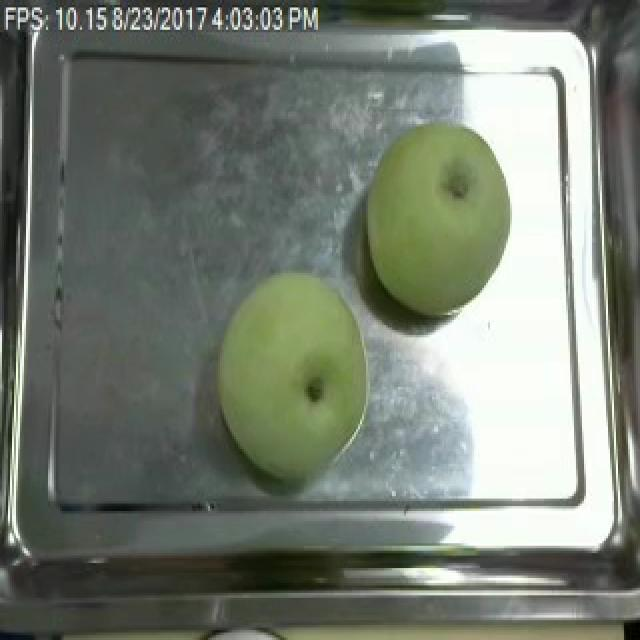50-_ripeness: (362, 104, 522, 328), (198, 276, 368, 480)
